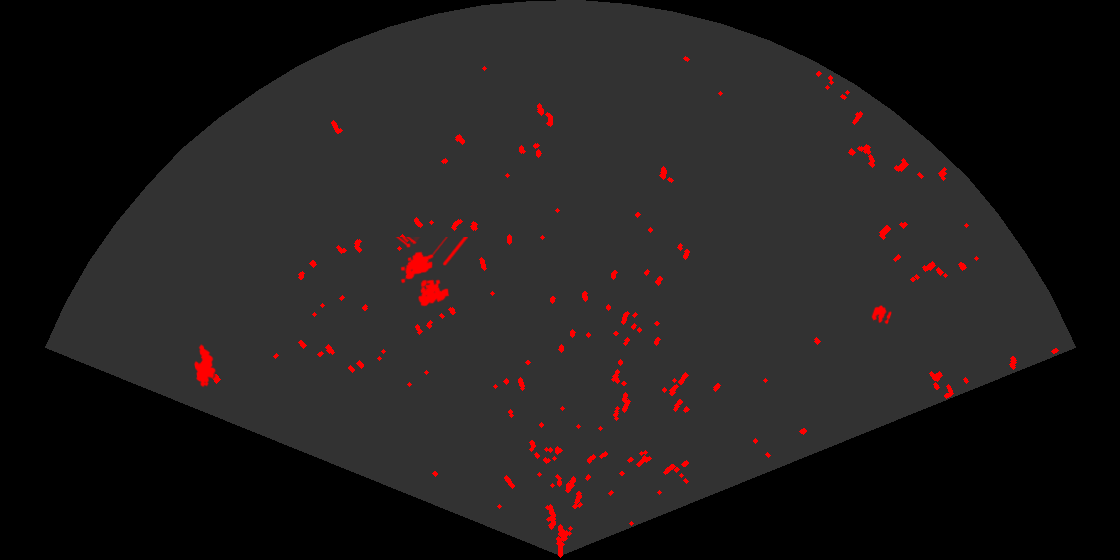AUV: (193, 342, 218, 389)
ball: (870, 304, 893, 326)
cage: (394, 237, 468, 308)
